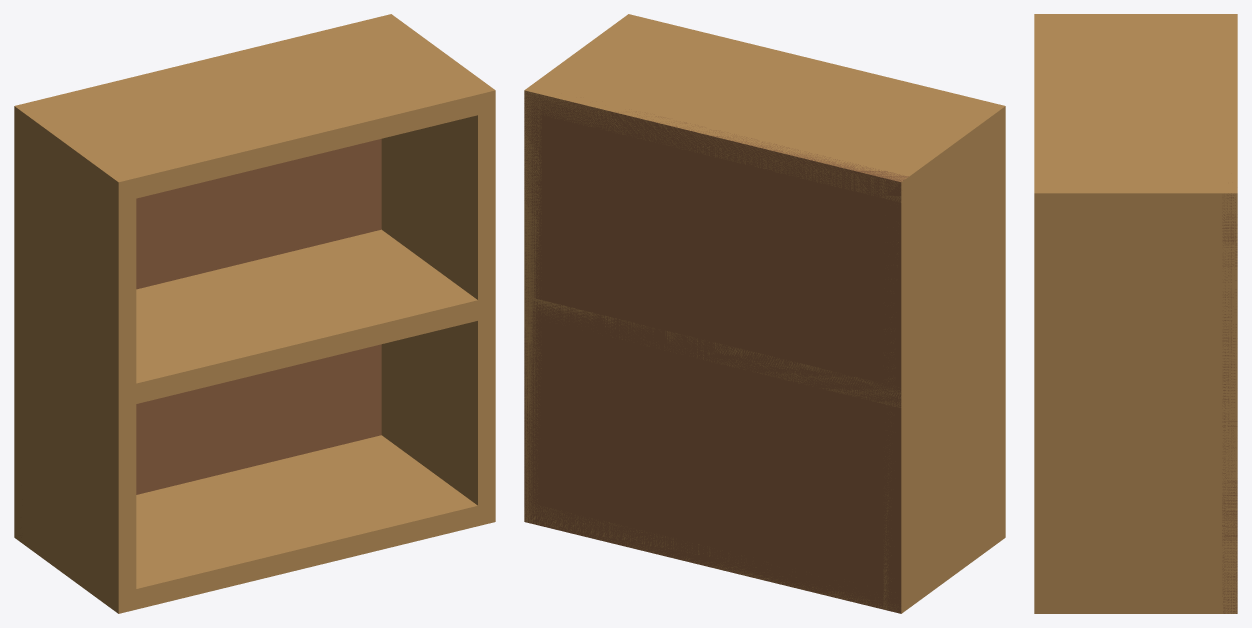
File: large_shelf.glb
3 renders of one model, left to right at view 1: azimuth 30°, elevation 25°; view 2: azimuth 150°, elevation 25°; view 3: azimuth 270°, elevation 25°, orthographic. The views are drawn at different scales.
Parts seen in each view (by area): view 1: upright.002, shelf.005, back.001, shelf.004, shelf.003, upright.003; view 2: back.001, upright.002, shelf.005, upright.003, shelf.004, shelf.003; view 3: upright.003, shelf.005, back.001.
Boxes of the visible parts, <box> form: upright.002: <box>14,106,136,613</box>; shelf.005: <box>15,14,494,201</box>; back.001: <box>20,139,381,541</box>; shelf.004: <box>64,229,484,407</box>; shelf.003: <box>15,435,486,613</box>; upright.003: <box>381,86,495,525</box>; back.001: <box>524,91,908,613</box>; upright.002: <box>883,106,1005,613</box>; shelf.005: <box>525,14,1004,202</box>; upright.003: <box>524,90,541,523</box>; shelf.004: <box>528,297,901,407</box>; shelf.003: <box>524,503,900,612</box>; upright.003: <box>1034,185,1237,613</box>; shelf.005: <box>1034,14,1237,212</box>; back.001: <box>1222,193,1237,613</box>.
Size of the model in its own units: 1.92 by 2.1 by 0.92.
